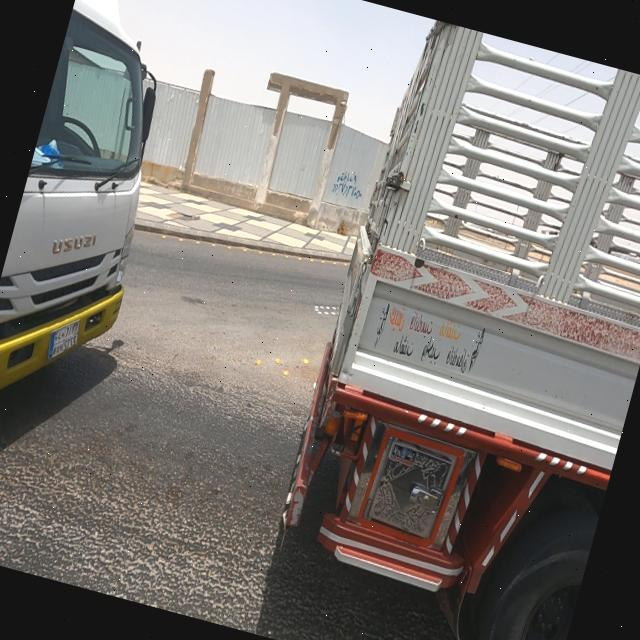Graffiti: (332, 168, 369, 202)
